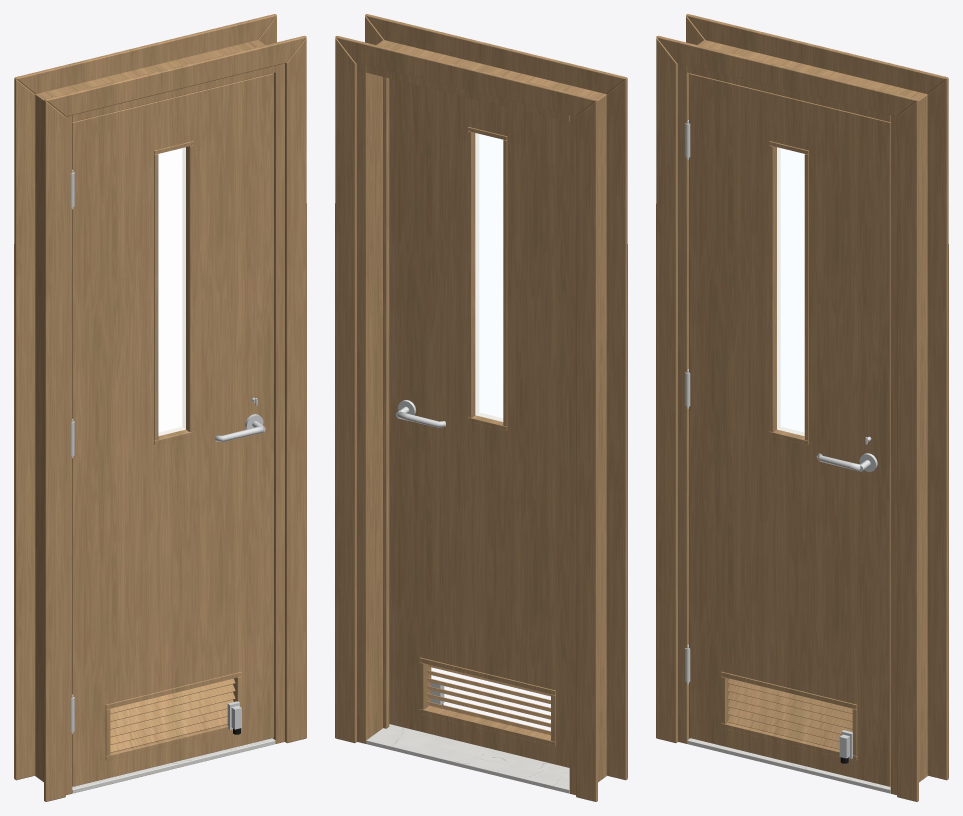
Rendered from mk_door_bath_center_l.glb.
3 renders of one model, left to right at view 1: azimuth 30°, elevation 25°; view 2: azimuth 150°, elevation 25°; view 3: azimuth 330°, elevation 25°, orthographic.
Visible parts, largest first — view 1: mk_door_bath_center_l_leaf_body, mk_door_bath_center_l_casing, mk_door_bath_center_l_frame, mk_door_bath_center_l_louver, mk_door_bath_center_l_glass_slit, mk_door_bath_center_l_handle, mk_door_bath_center_l_hinges; view 2: mk_door_bath_center_l_leaf_body, mk_door_bath_center_l_casing, mk_door_bath_center_l_frame, mk_door_bath_center_l_louver, mk_door_bath_center_l_glass_slit, mk_door_bath_center_l_handle; view 3: mk_door_bath_center_l_leaf_body, mk_door_bath_center_l_casing, mk_door_bath_center_l_frame, mk_door_bath_center_l_louver, mk_door_bath_center_l_glass_slit, mk_door_bath_center_l_handle, mk_door_bath_center_l_hinges.
Boxes of the visible parts, x1,y1,x2,y2 form: mk_door_bath_center_l_leaf_body: (72, 73, 273, 786); mk_door_bath_center_l_casing: (14, 14, 306, 801); mk_door_bath_center_l_frame: (35, 40, 284, 794); mk_door_bath_center_l_louver: (105, 141, 241, 760); mk_door_bath_center_l_glass_slit: (158, 147, 185, 436); mk_door_bath_center_l_handle: (215, 397, 265, 734); mk_door_bath_center_l_hinges: (70, 169, 74, 733); mk_door_bath_center_l_leaf_body: (389, 78, 569, 767); mk_door_bath_center_l_casing: (335, 14, 627, 801); mk_door_bath_center_l_frame: (357, 40, 606, 794); mk_door_bath_center_l_louver: (419, 127, 555, 746); mk_door_bath_center_l_glass_slit: (475, 133, 503, 421); mk_door_bath_center_l_handle: (395, 400, 445, 704); mk_door_bath_center_l_leaf_body: (689, 73, 890, 786); mk_door_bath_center_l_casing: (656, 14, 948, 801); mk_door_bath_center_l_frame: (678, 40, 927, 794); mk_door_bath_center_l_louver: (721, 141, 857, 760); mk_door_bath_center_l_glass_slit: (777, 147, 804, 436); mk_door_bath_center_l_handle: (816, 436, 877, 763); mk_door_bath_center_l_hinges: (685, 120, 690, 684).
Bounding box in the file's own units: 0.8231 × 2.11 × 0.2148.
Materials: 5 (2 with a texture image).
